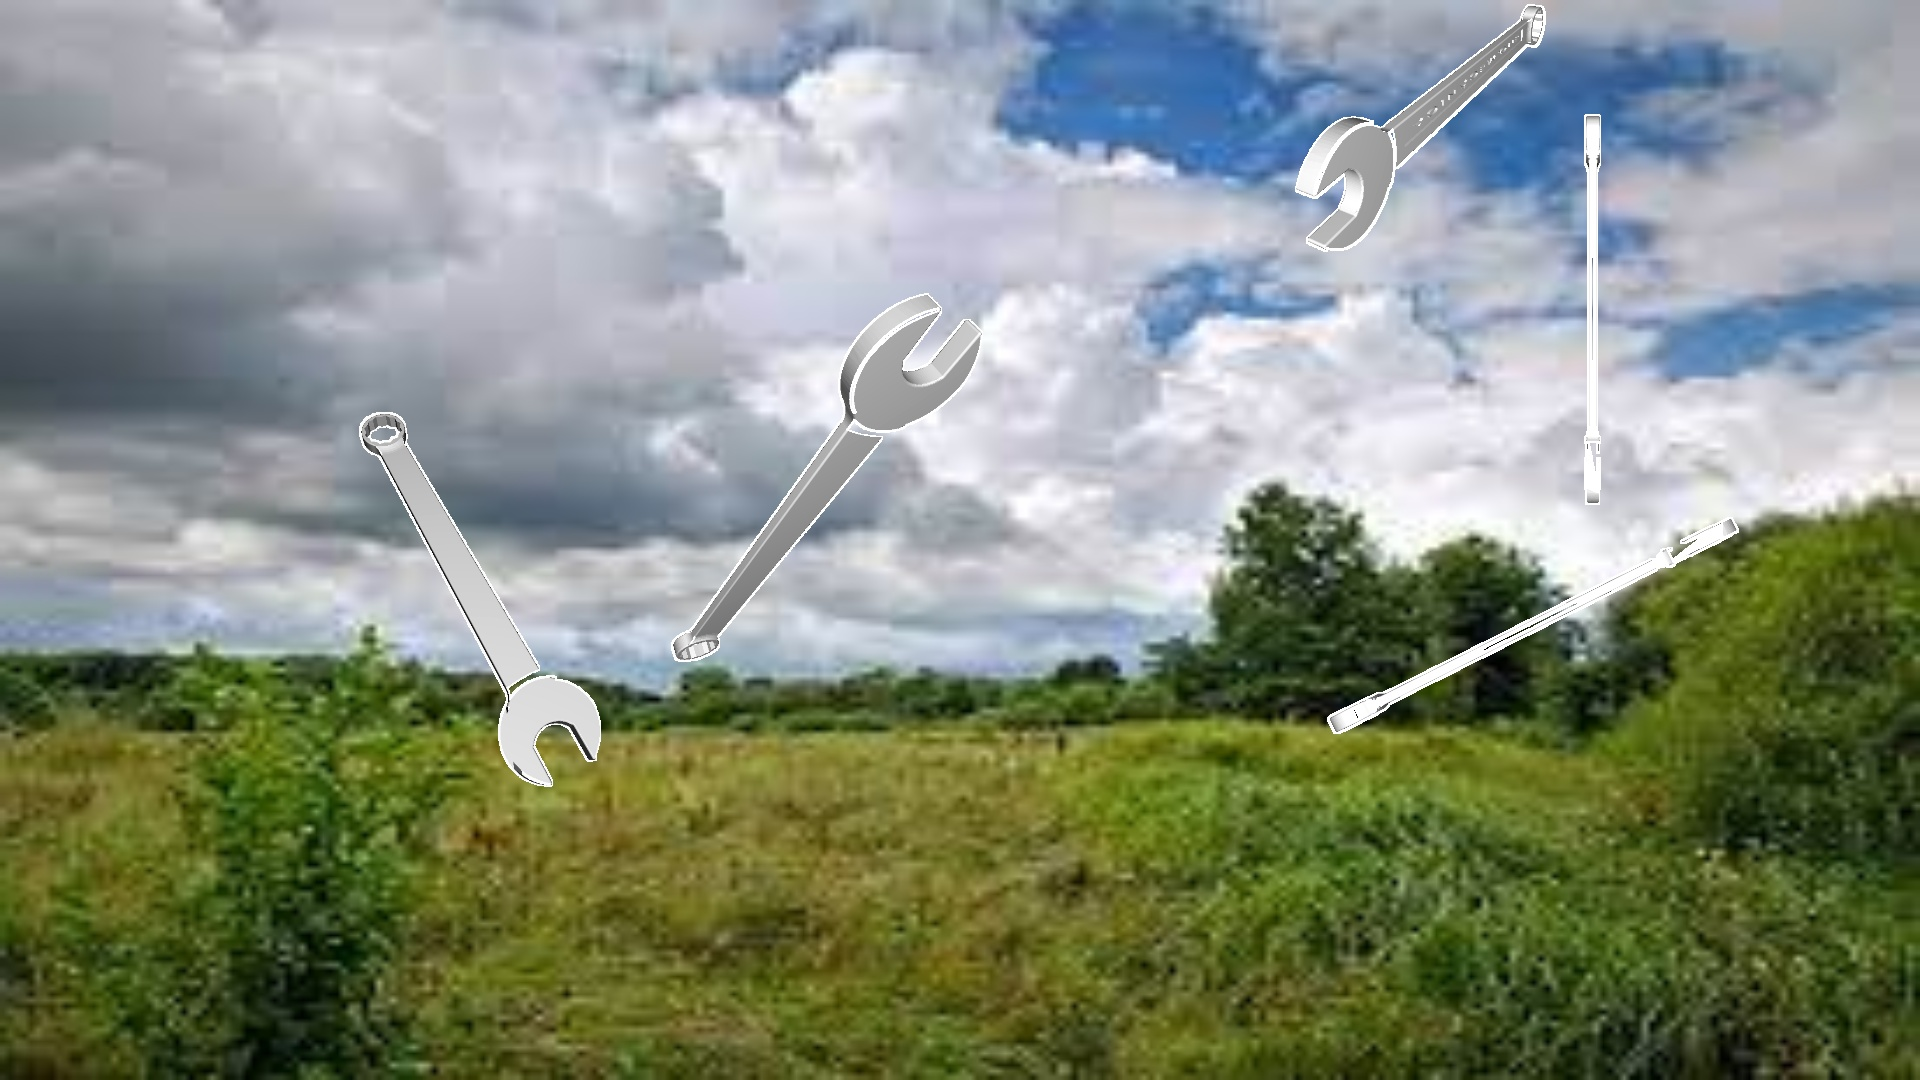Mixed Key: (671, 293, 982, 661), (359, 411, 600, 786), (1327, 517, 1738, 733), (1295, 4, 1545, 251), (1584, 113, 1600, 504)
